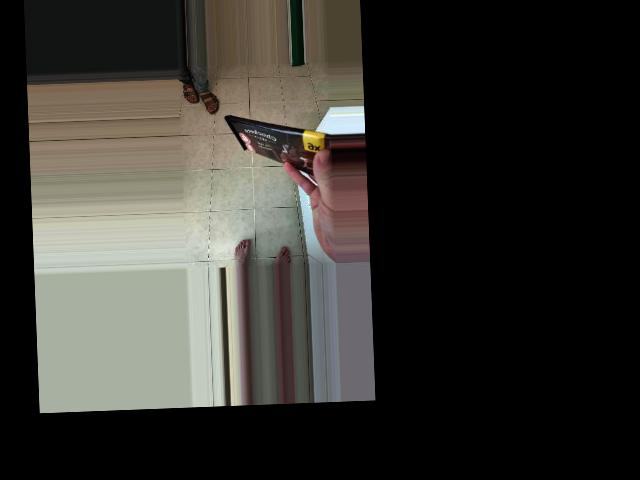chocolate: (214, 108, 286, 216)
